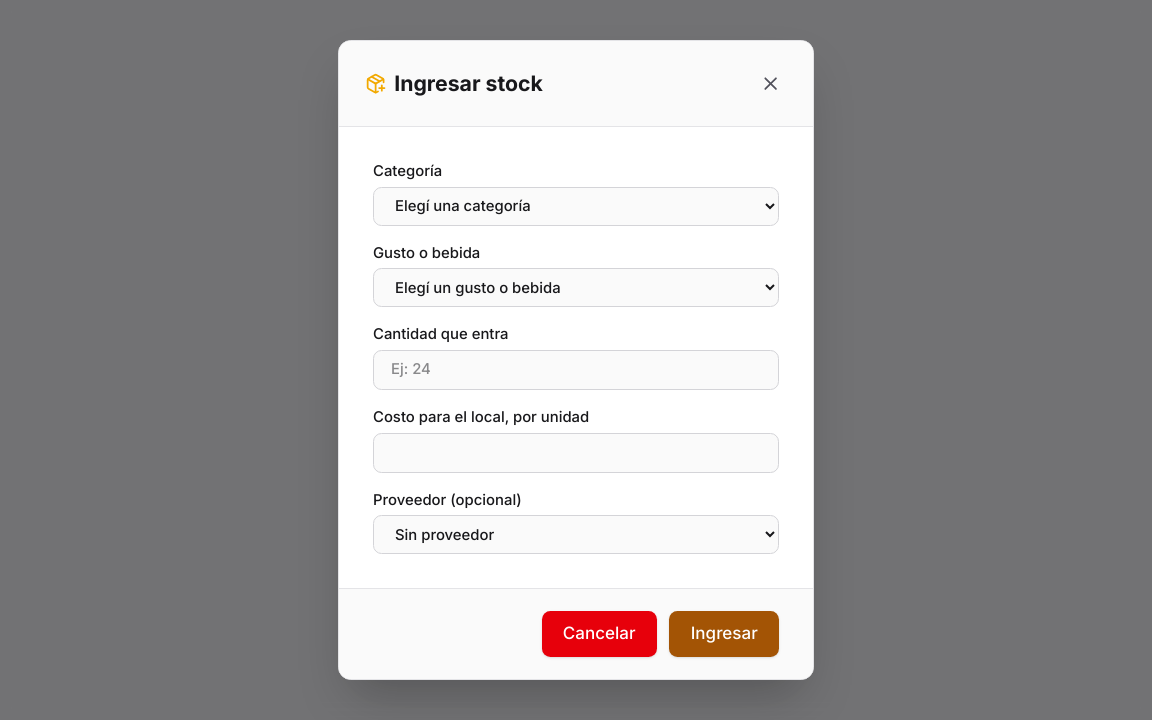
it: Ingresar stock: costo y precio de una pizza (BUG-25) › sin gusto no manda nada y lo pide
Select "Ciabattas" in the dropdown labelled "Categoría". click: [576, 206]
box: [373,187,779,226]
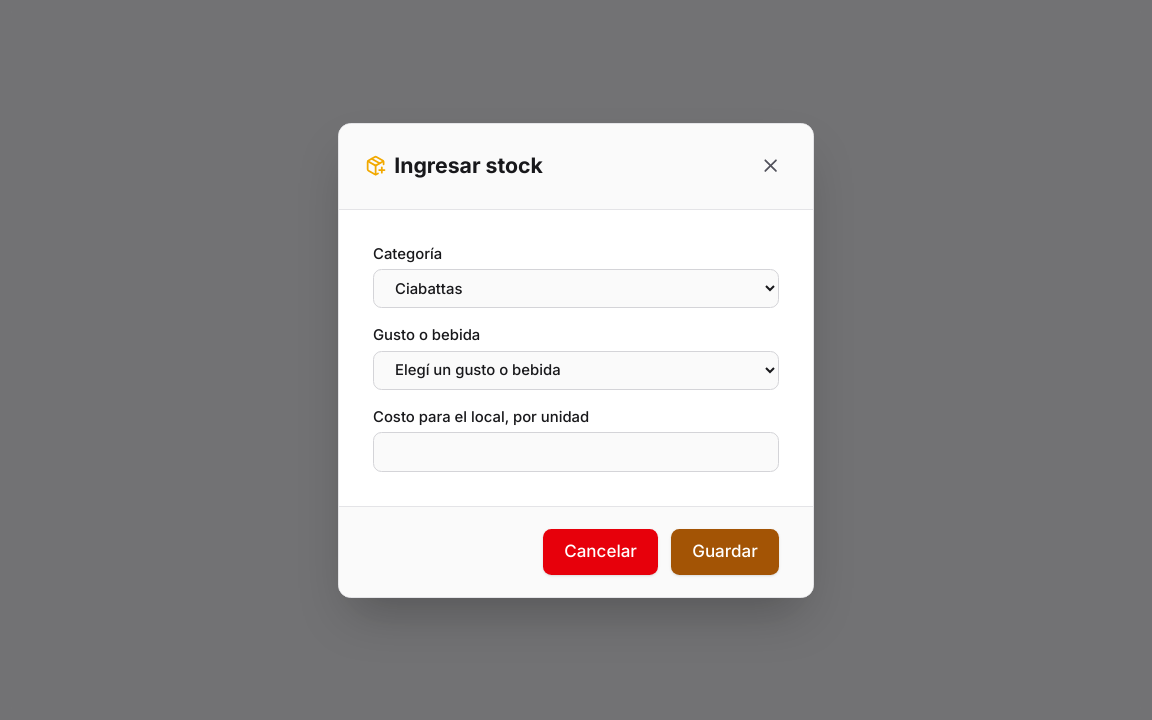
Click the button "Guardar". click: [725, 552]
box: [671,528,779,575]
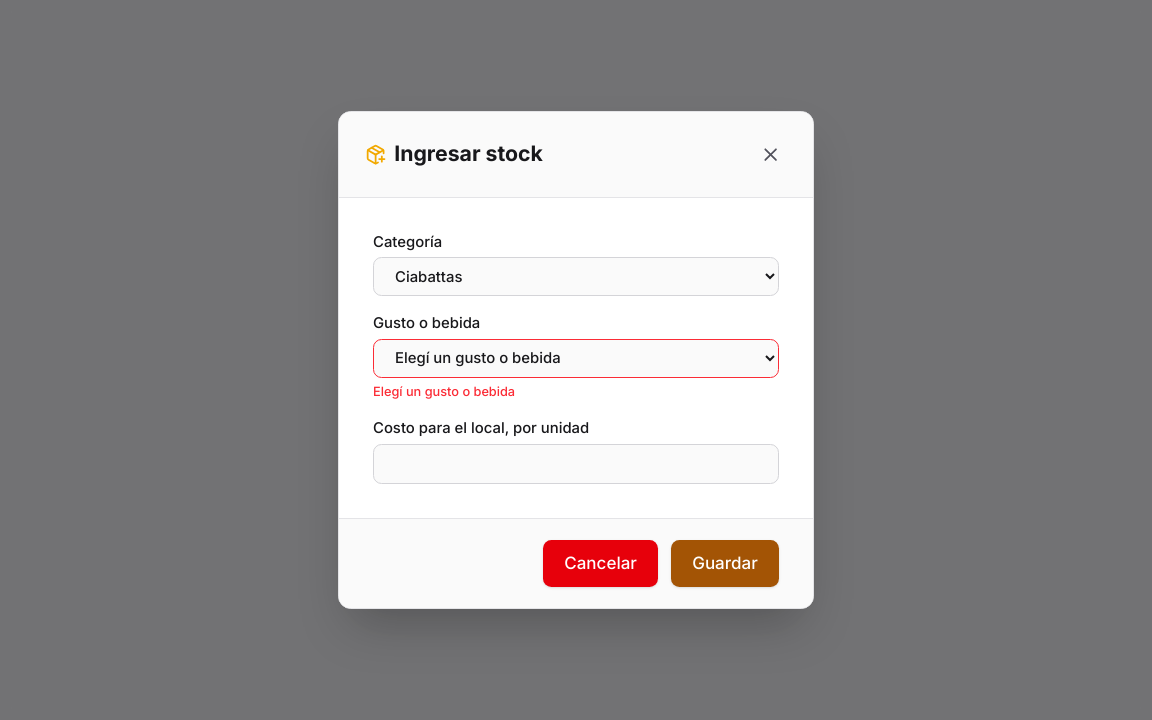
Expected: the text "Elegí un gusto o bebida" is shown, [373,384,515,399]
